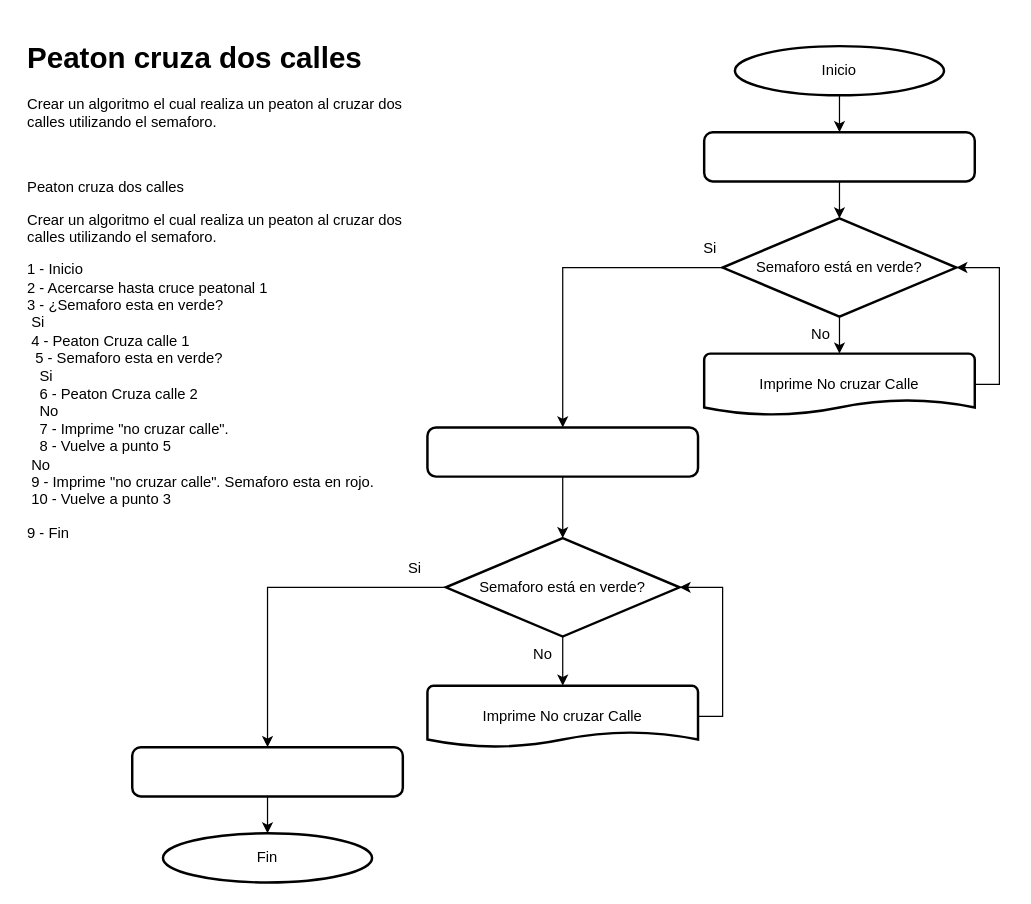
Image size: 1031x904. Some labels were removed from this diagram. Here are the shapes that lost their labels. From the top down, the centre of each, then its label:
At pixel 838 156: "Acercarse hasta cruce peatonal 1".
At pixel 562 451: "Peaton cruza calle 1".
At pixel 266 771: "Peaton cruza calle 2".
